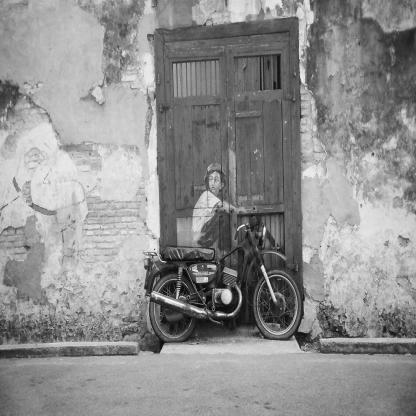moto: (128, 204, 320, 356)
